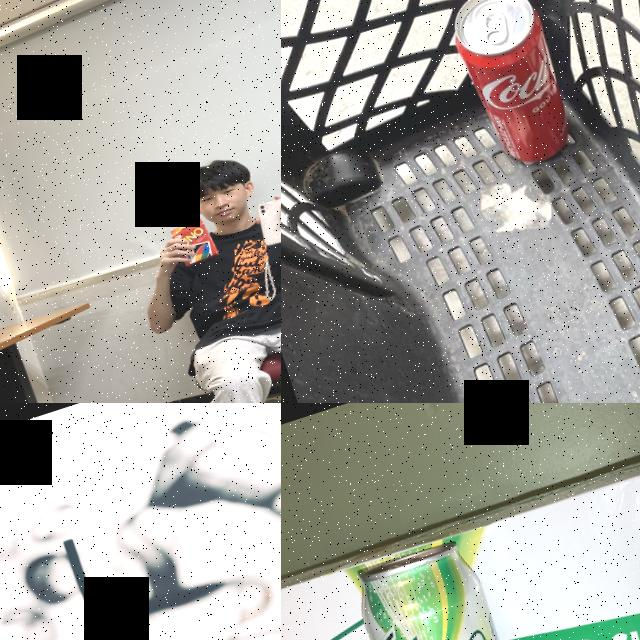can: (439, 0, 580, 175), (345, 530, 566, 640)
